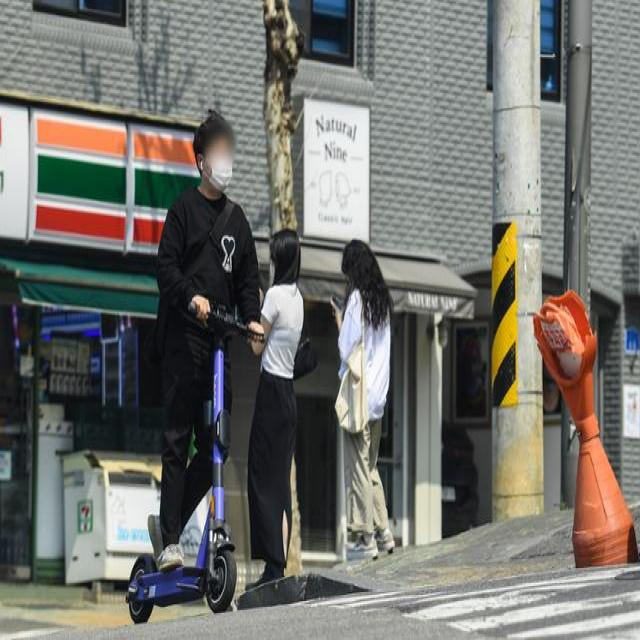non-helmet: (121, 109, 272, 627)
